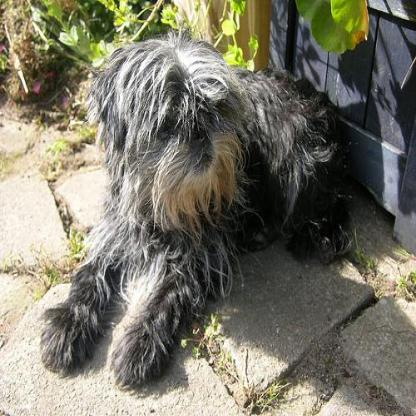affenpinscher: (34, 22, 356, 391)
